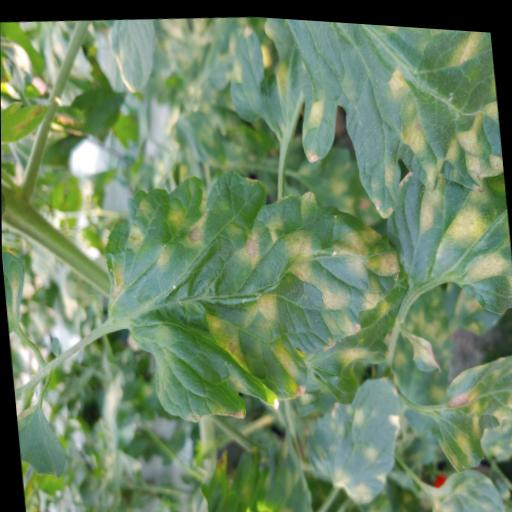Healthy: (14, 401, 65, 482)
Leaf Mold: (96, 142, 412, 439), (282, 15, 507, 228), (380, 155, 512, 315), (301, 365, 408, 505), (432, 342, 512, 472), (223, 19, 269, 124)
